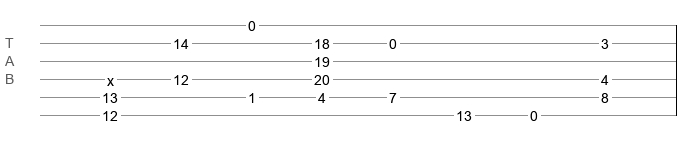0: (248, 18, 256, 28), (389, 36, 397, 46), (530, 108, 538, 118)
1: (248, 90, 256, 100)
12: (102, 108, 118, 118), (173, 72, 189, 82)
13: (102, 90, 118, 100), (456, 108, 472, 118)
14: (173, 36, 189, 46)
18: (314, 36, 330, 46)
19: (314, 54, 330, 64)
20: (314, 72, 330, 82)
3: (601, 36, 609, 46)
4: (318, 90, 326, 100), (601, 72, 609, 82)
7: (389, 90, 397, 100)
8: (601, 90, 609, 100)
x: (107, 73, 114, 81)
